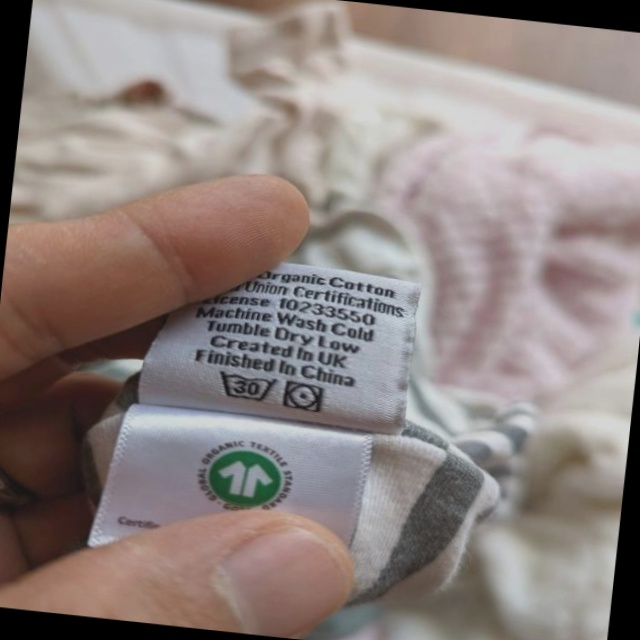30C: (212, 366, 280, 407)
tumble_dry_low: (280, 377, 327, 417)
